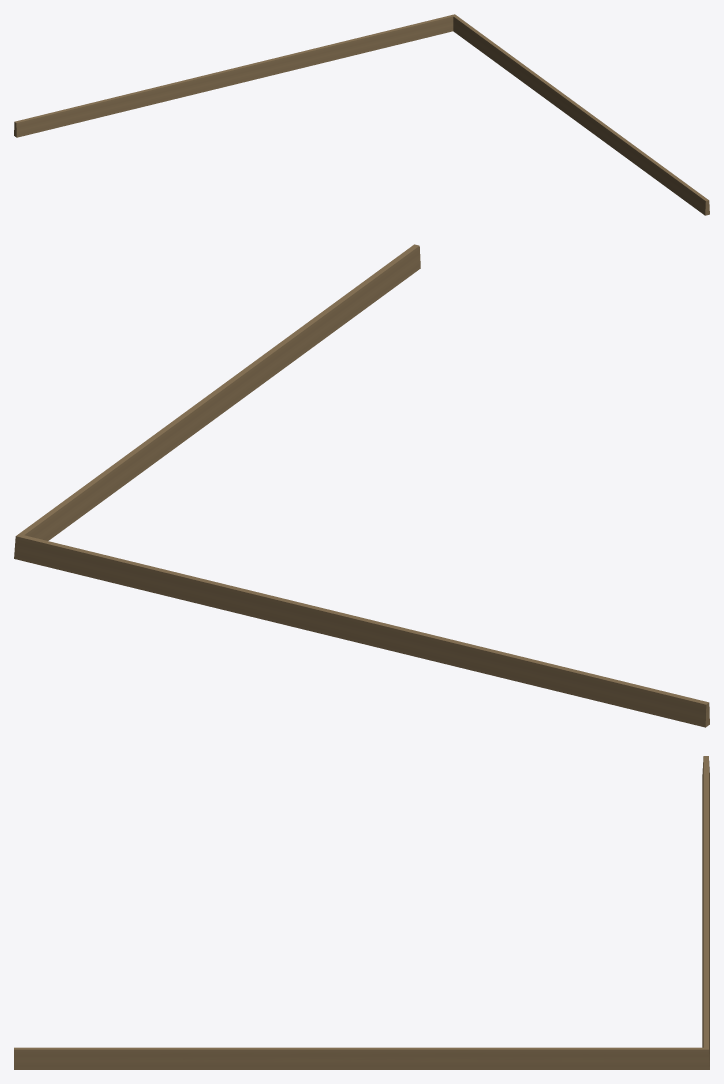
File: enclosure-L-LOD1.glb
3 renders of one model, top to bottom at view 1: azimuth 30°, elevation 25°; view 2: azimuth 150°, elevation 25°; view 3: azimuth 270°, elevation 25°, orthographic. The views are drawn at different scales.
Parts seen in each view (by area): view 1: biyong-enclosure-L-static_earth; view 2: biyong-enclosure-L-static_earth; view 3: biyong-enclosure-L-static_earth.
Boxes of the visible parts, x1,y1,x2,y2 form: biyong-enclosure-L-static_earth: [14, 14, 709, 215]; biyong-enclosure-L-static_earth: [14, 244, 709, 727]; biyong-enclosure-L-static_earth: [14, 756, 709, 1069].
Size of the model in its own units: 64.35 by 2 by 64.35.
